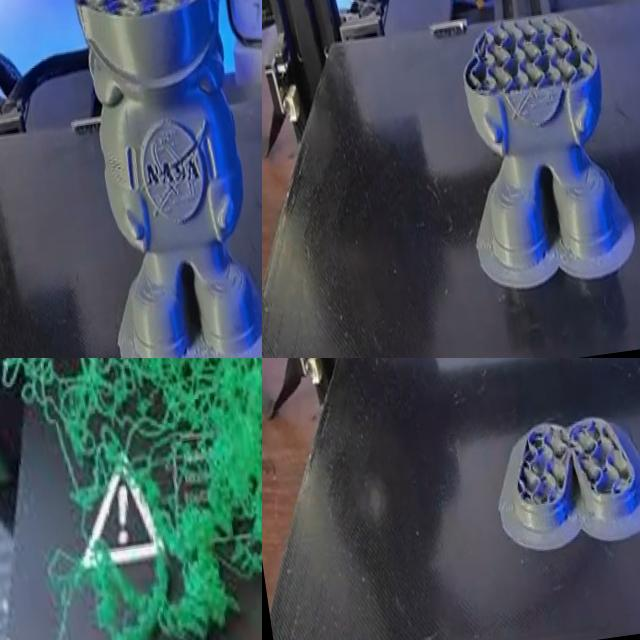spaghetti: (0, 358, 262, 640)
